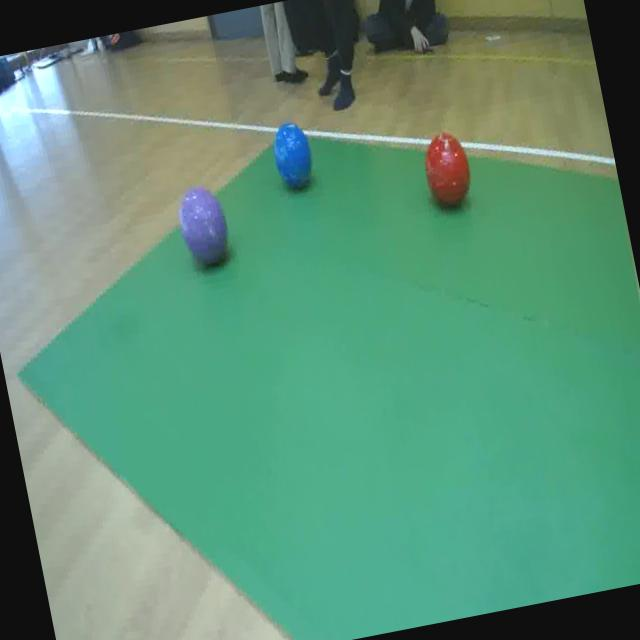blue_ball: (268, 112, 318, 188)
purple_ball: (174, 178, 237, 272)
red_ball: (416, 122, 478, 216)
